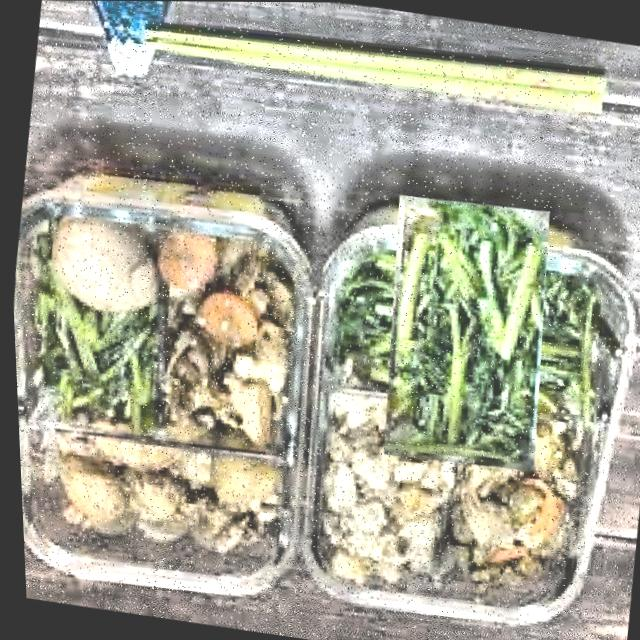Food: (339, 211, 589, 453), (10, 299, 164, 440)
